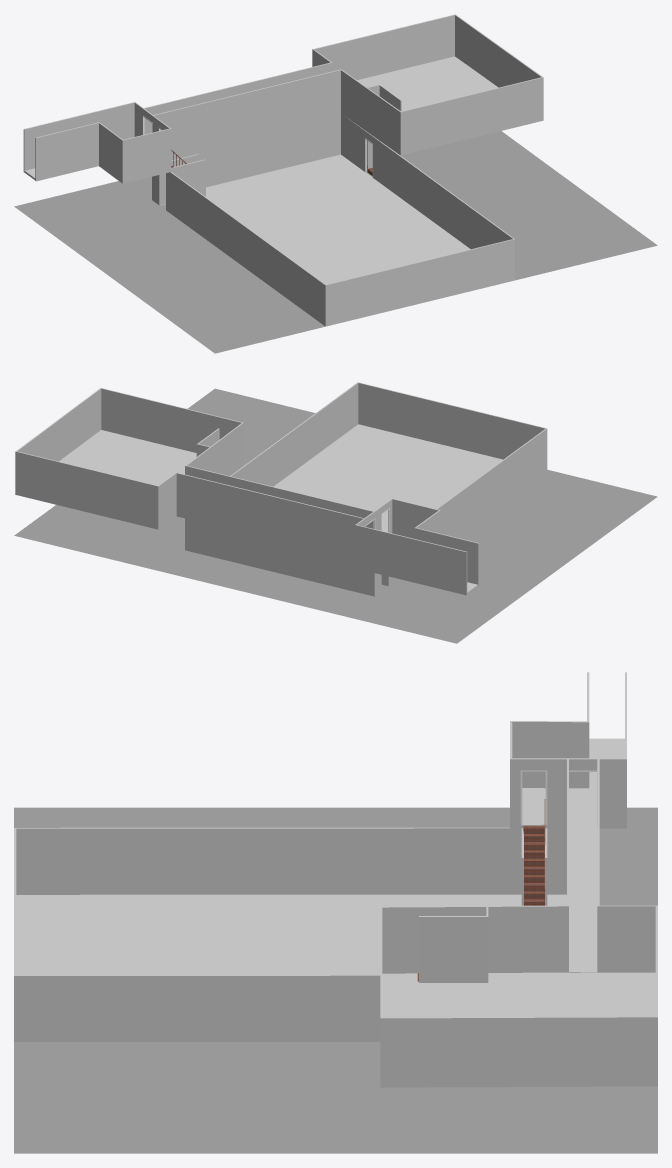
File: HouseLevel.obj
3 renders of one model, top to bottom at view 1: azimuth 30°, elevation 25°; view 2: azimuth 150°, elevation 25°; view 3: azimuth 270°, elevation 25°, orthographic. The views are drawn at different scales.
Parts seen in each view (by area): view 1: ground_1, room_32_155, wall_13_70, wall_9_47, wall_14_76, wall_18_101, wall_12_65, wall_11_59, wall_20_112, room_33_156, wall_3_10, wall_19_106 (+8 smaller); view 2: ground_1, room_32_155, wall_8_40, wall_13_71, wall_20_113, wall_11_58, wall_18_100, wall_12_65, wall_14_76, room_33_156, wall_1_4, wall_19_106 (+7 smaller); view 3: ground_1, wall_14_77, room_32_155, wall_12_64, wall_19_107, room_33_156, wall_17_94, wall_6_29, wall_23_125, room_31_154, wall_21_118, wall_4_16 (+3 smaller).
Part boxes in pixels (<box>): ground_1: <box>14,131,657,353</box>; room_32_155: <box>161,154,470,284</box>; wall_13_70: <box>325,239,514,326</box>; wall_9_47: <box>154,70,340,154</box>; wall_14_76: <box>166,172,325,326</box>; wall_18_101: <box>400,77,543,155</box>; wall_12_65: <box>341,113,512,249</box>; wall_11_59: <box>171,113,340,187</box>; wall_20_112: <box>314,15,454,79</box>; room_33_156: <box>357,56,498,111</box>; wall_3_10: <box>35,123,98,181</box>; wall_19_106: <box>455,15,541,87</box>; ground_1: <box>14,388,657,643</box>; room_32_155: <box>273,424,502,532</box>; wall_8_40: <box>176,473,363,559</box>; wall_13_71: <box>358,383,544,459</box>; wall_20_113: <box>15,451,158,529</box>; wall_11_58: <box>185,518,374,596</box>; wall_18_100: <box>101,388,241,452</box>; wall_12_65: <box>231,383,358,486</box>; wall_14_76: <box>388,429,547,585</box>; room_33_156: <box>59,430,196,485</box>; wall_1_4: <box>403,537,466,595</box>; wall_19_106: <box>17,389,101,461</box>; ground_1: <box>14,807,657,1153</box>; wall_14_77: <box>16,828,521,894</box>; room_32_155: <box>16,894,566,974</box>; wall_12_64: <box>14,975,380,1041</box>; wall_19_107: <box>380,1017,657,1087</box>; room_33_156: <box>382,972,655,1017</box>; wall_17_94: <box>382,906,568,973</box>; wall_6_29: <box>510,759,626,828</box>; wall_23_125: <box>419,917,488,982</box>; room_31_154: <box>569,824,597,972</box>; wall_21_118: <box>597,906,655,972</box>; wall_4_16: <box>512,722,589,788</box>.
Bounding box in the file's own units: 2810 × 512 × 2209.
5 materials, 2 textured.
